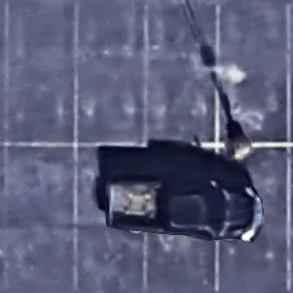Occupied: (145, 144, 217, 290), (218, 144, 289, 290), (75, 144, 145, 288)
Vacant: (145, 2, 218, 145), (217, 2, 289, 146), (6, 144, 76, 289), (6, 1, 76, 145), (75, 2, 145, 145)
